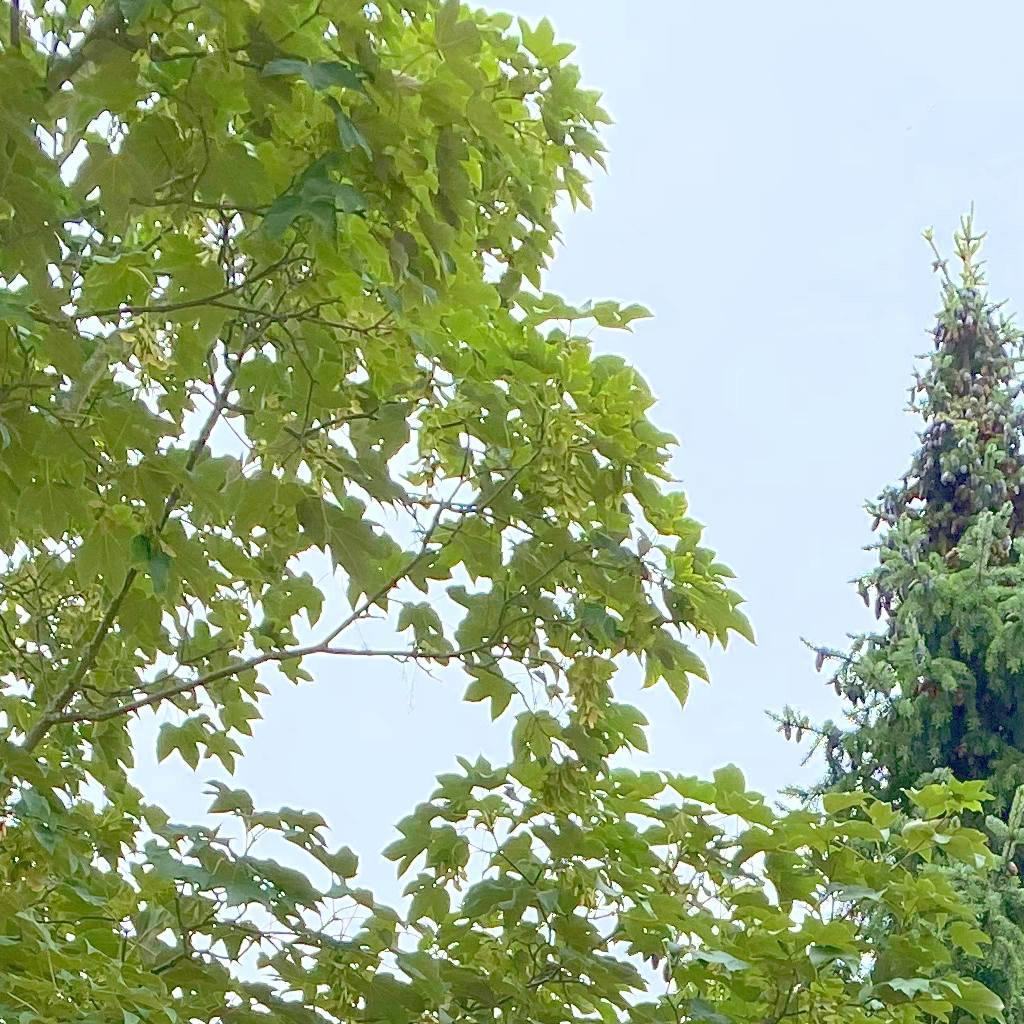tree: (1, 1, 1005, 1024), (765, 200, 1024, 1024)
